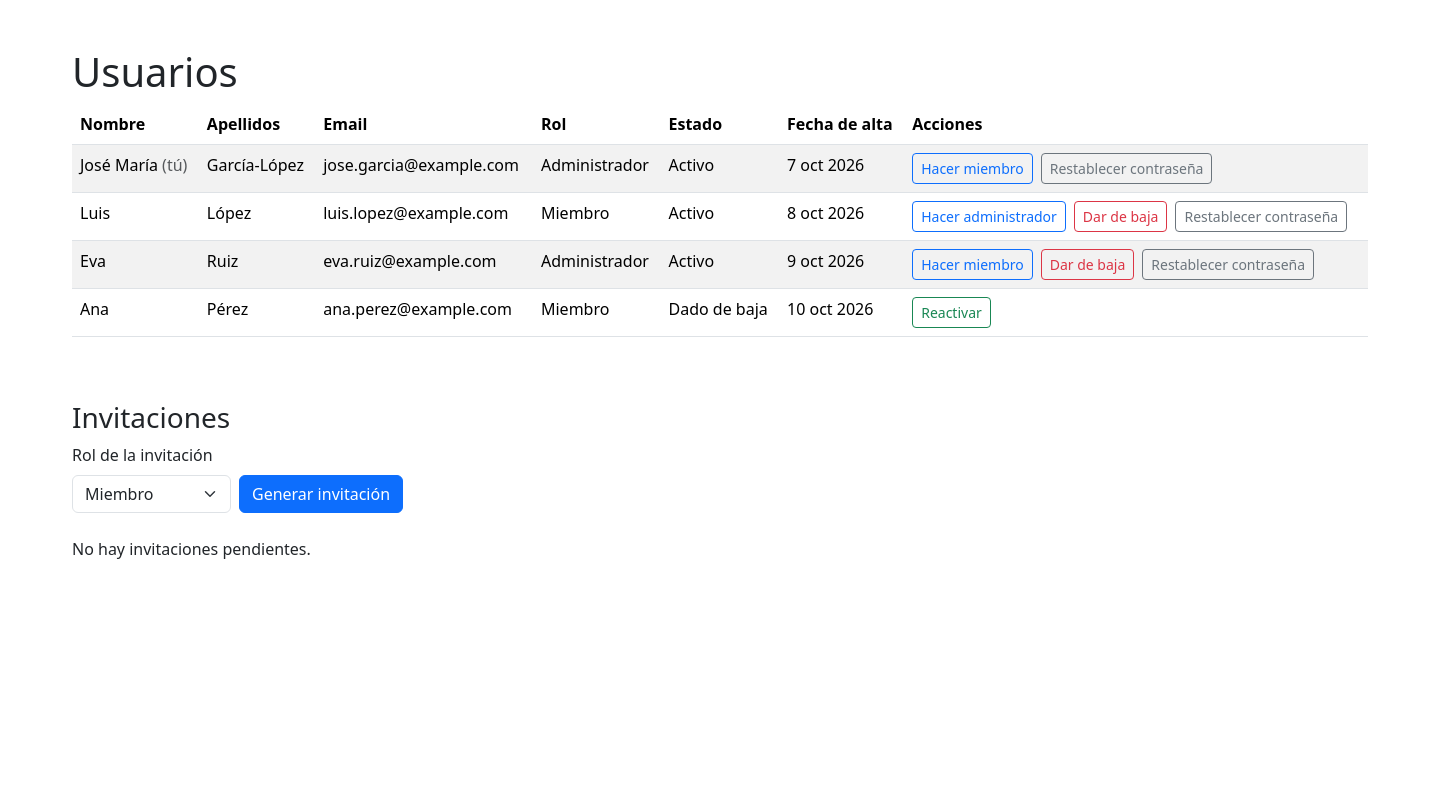
Test: UsersPage actions › suspending › sends nothing and leaves the row as it was when the dialog is cancelled
Click the button "Dar de baja" in the row of "luis.lopez@example.com". click: [1121, 216]
box: [1074,201,1168,232]
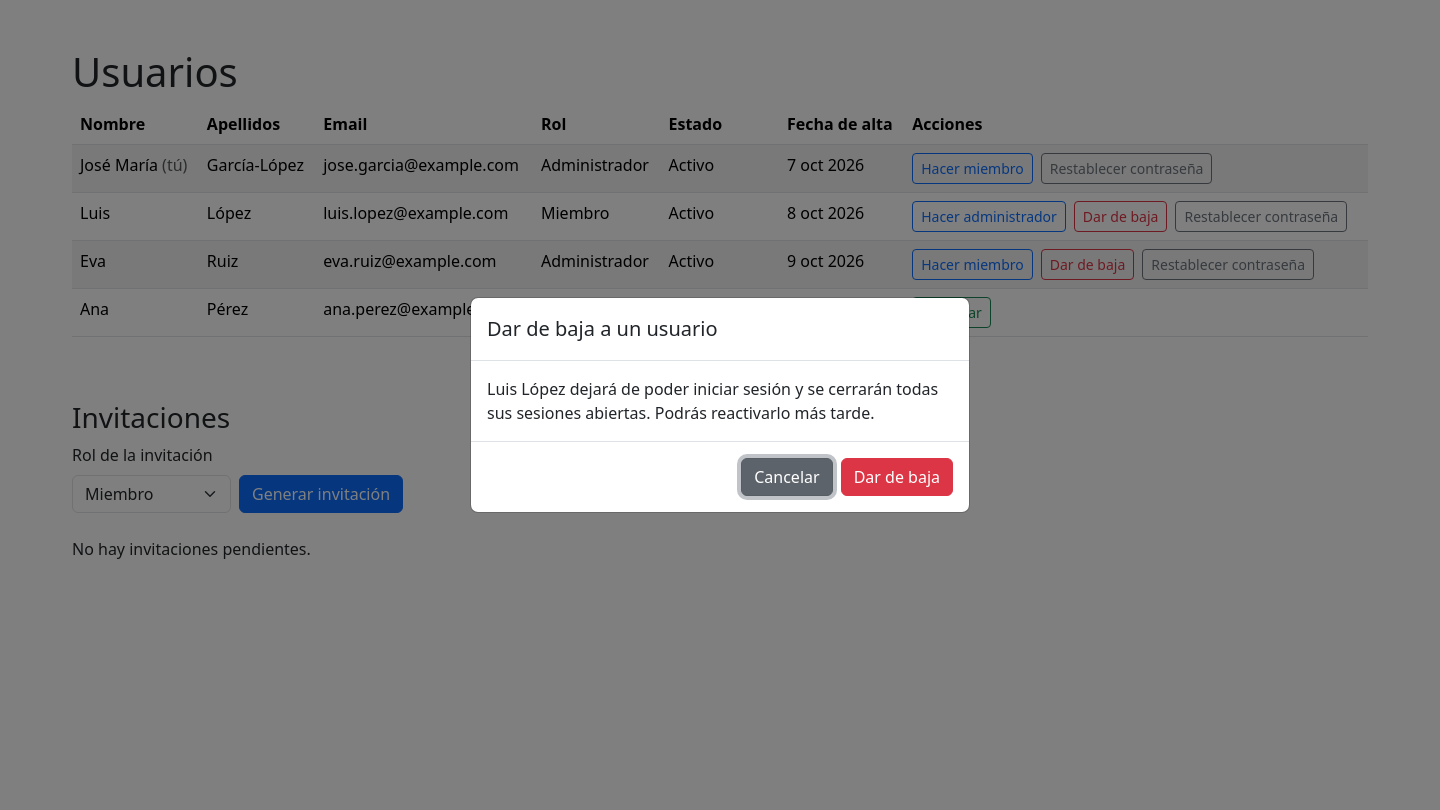
Click the button "Cancelar". click: [787, 477]
box: [741,458,833,496]
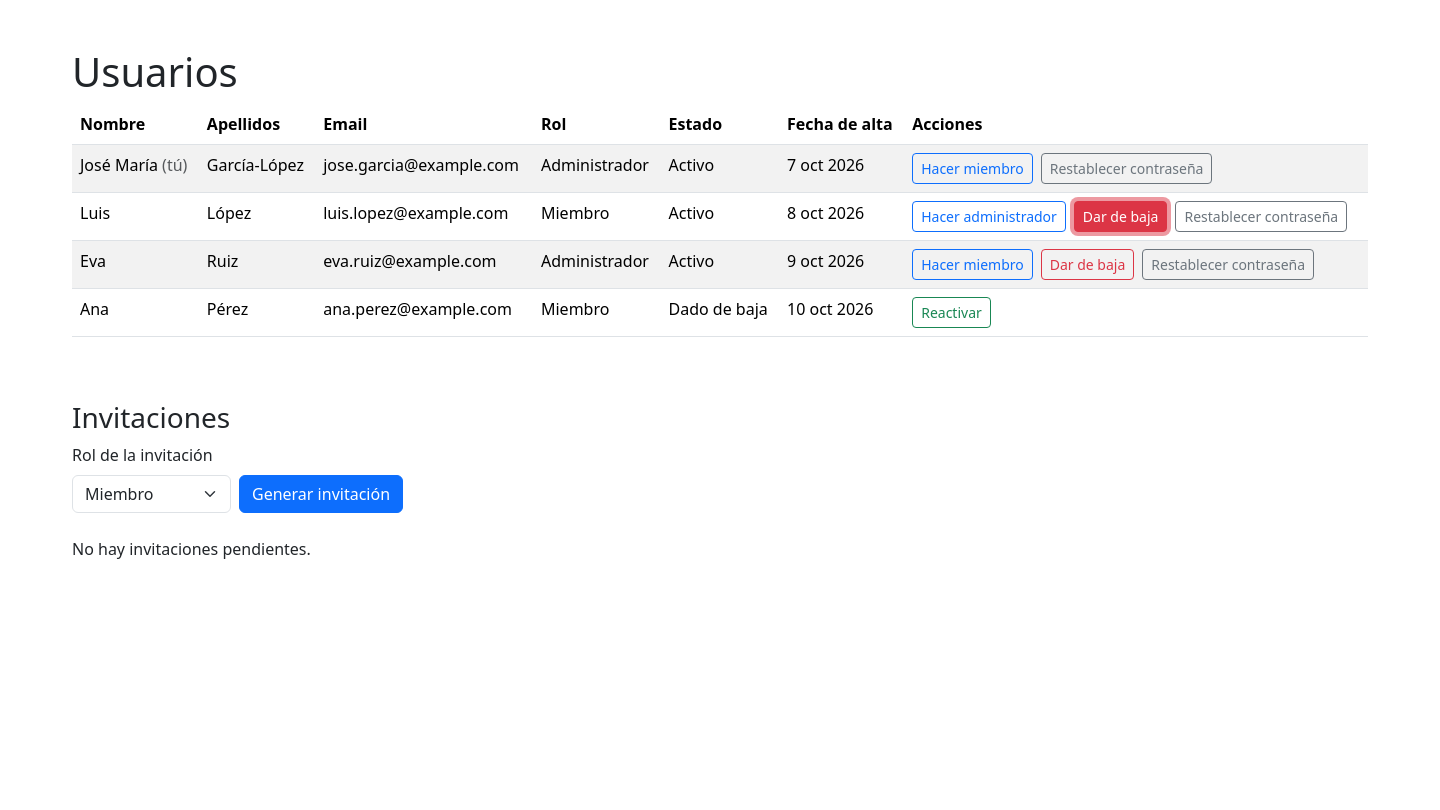
Expected: the text "luis.lopez@example.com" shows "Activo", [668,202,714,224]
Expected: the dialog is gone
